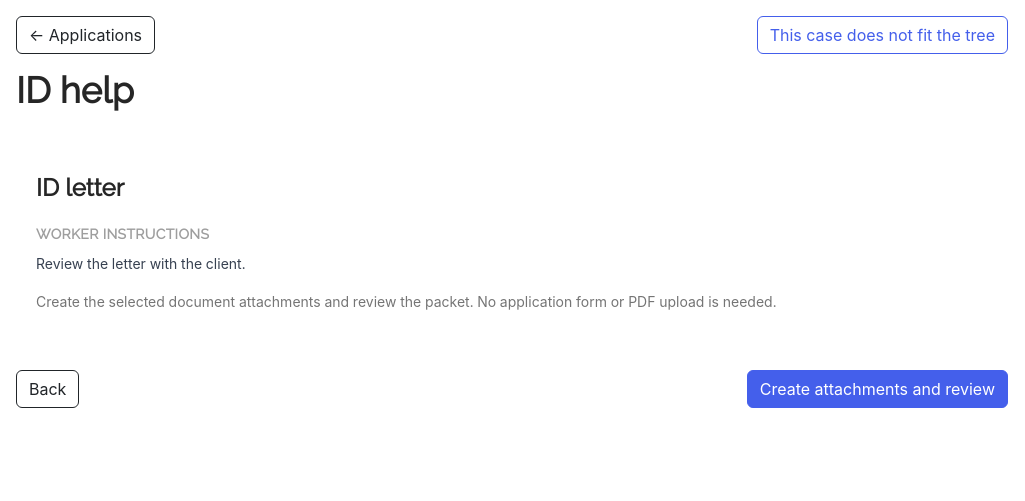
Scenario: attachments-only selector outcomes › does not navigate or complete when attachment creation fails
Click the button "Create attachments and review". click: (877, 389)
box: [747,370,1008,408]
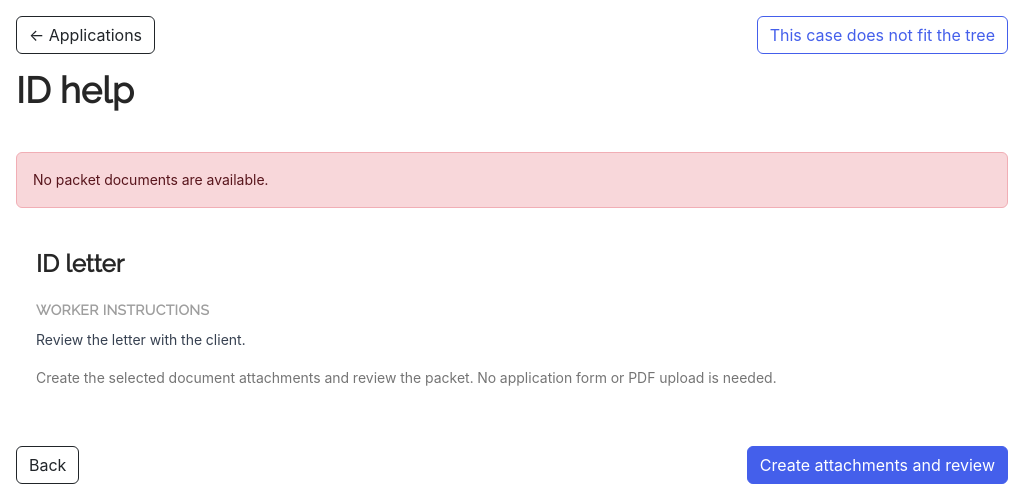
Expected: the text "No packet documents are available." is shown, [16,152,1008,208]
